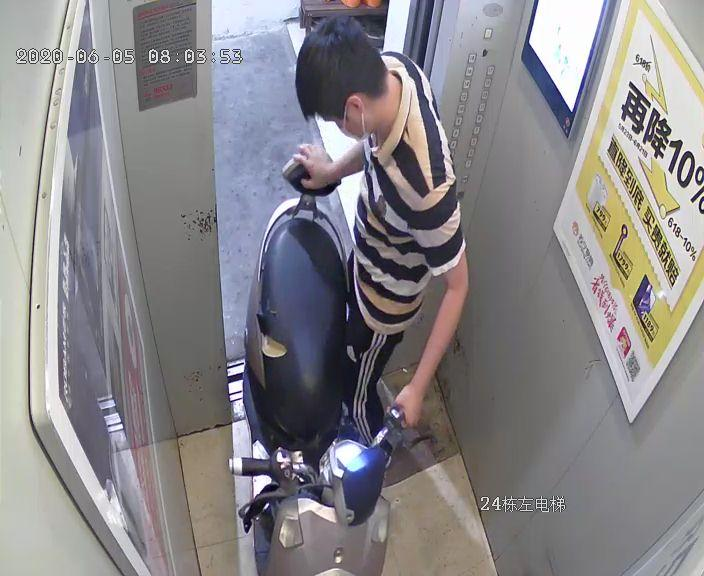Electric-bicycle: (226, 153, 406, 575)
